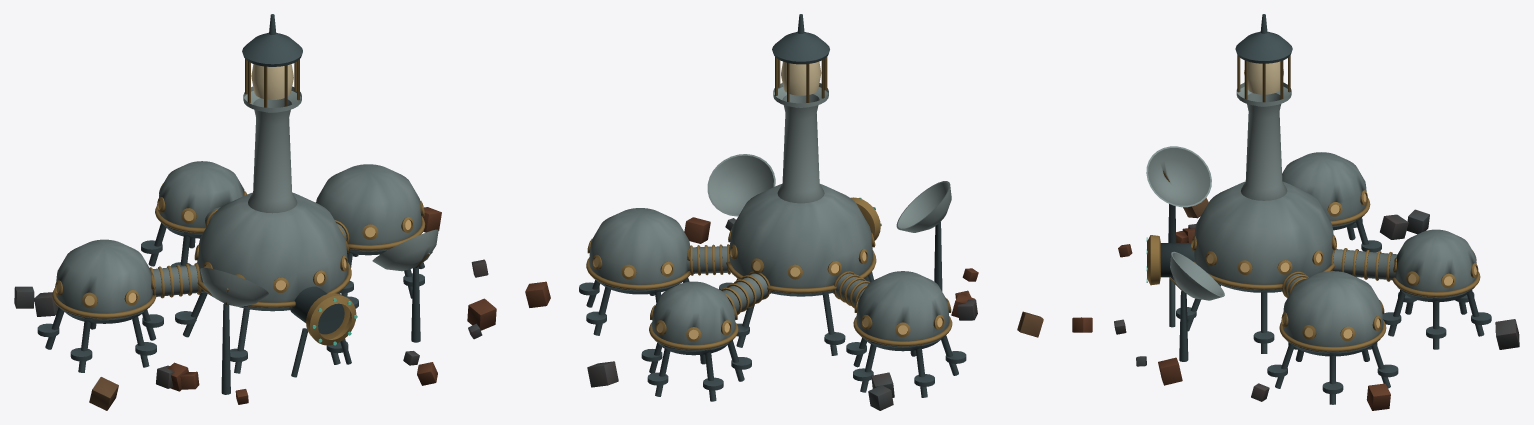
The model's file is station.glb.
The picture shows the model from 3 angles, left to right: view 1: azimuth 30°, elevation 25°; view 2: azimuth 150°, elevation 25°; view 3: azimuth 270°, elevation 25°; orthographic projection. The views are drawn at different scales.
Parts seen in each view (by area): view 1: station; view 2: station; view 3: station.
Part boxes in pixels (<box>): station: <box>14,14,496,410</box>; station: <box>525,14,1043,410</box>; station: <box>1072,14,1519,410</box>.
Bounding box in the file's own units: 42.07 × 29.4 × 38.99.
